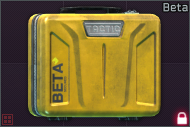Secure container Beta: (0, 0, 190, 127)
